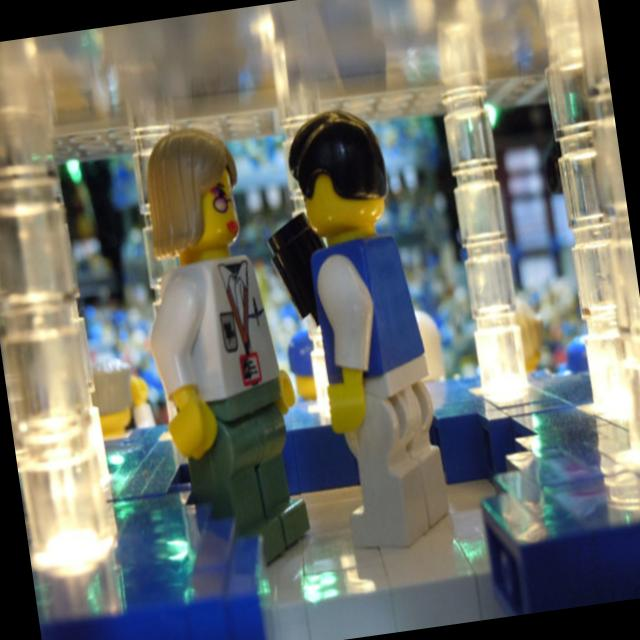Toy: (248, 102, 462, 565), (115, 114, 318, 576)
